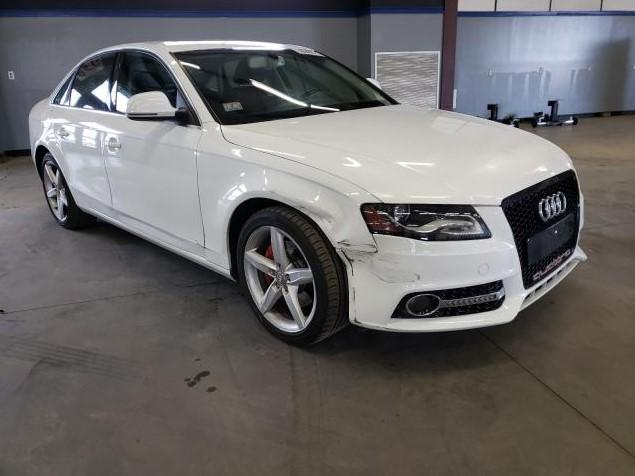Back-door: (55, 51, 114, 219)
Back-wheel: (42, 154, 80, 230)
Back-window: (71, 52, 113, 112), (53, 73, 74, 106)
Fender: (197, 122, 382, 269)
Front-bumper: (334, 165, 587, 333)
Front-door: (101, 48, 206, 259)
Front-wheel: (236, 206, 349, 347)
Front-window: (116, 53, 177, 115)
Grille: (503, 171, 581, 290)
Headlight: (361, 203, 492, 242)
Hood: (221, 104, 573, 207)
License-plate: (529, 213, 575, 265)
Mirror: (126, 92, 194, 126), (366, 78, 381, 89)
Quarter-panel: (28, 99, 77, 205)
Rocker-panel: (76, 203, 235, 282)
Roof: (91, 41, 314, 54)
Windshield: (169, 46, 399, 125)
